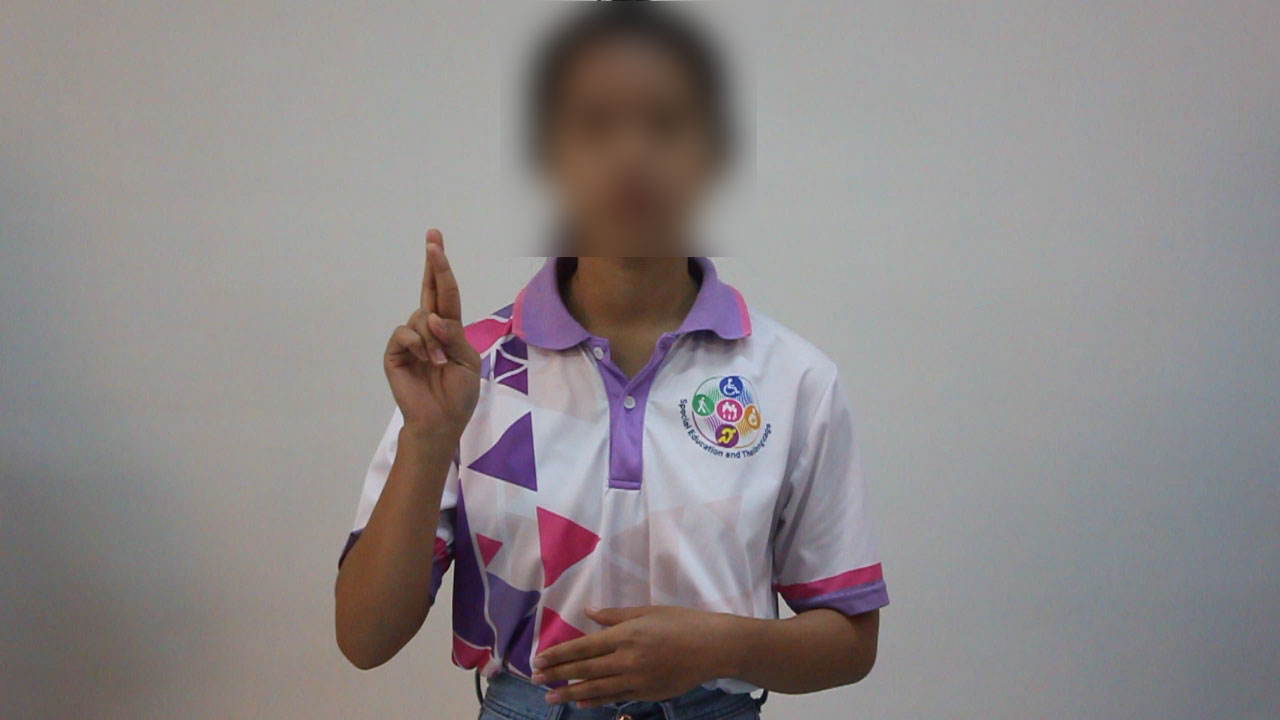rao: (365, 221, 502, 469)
